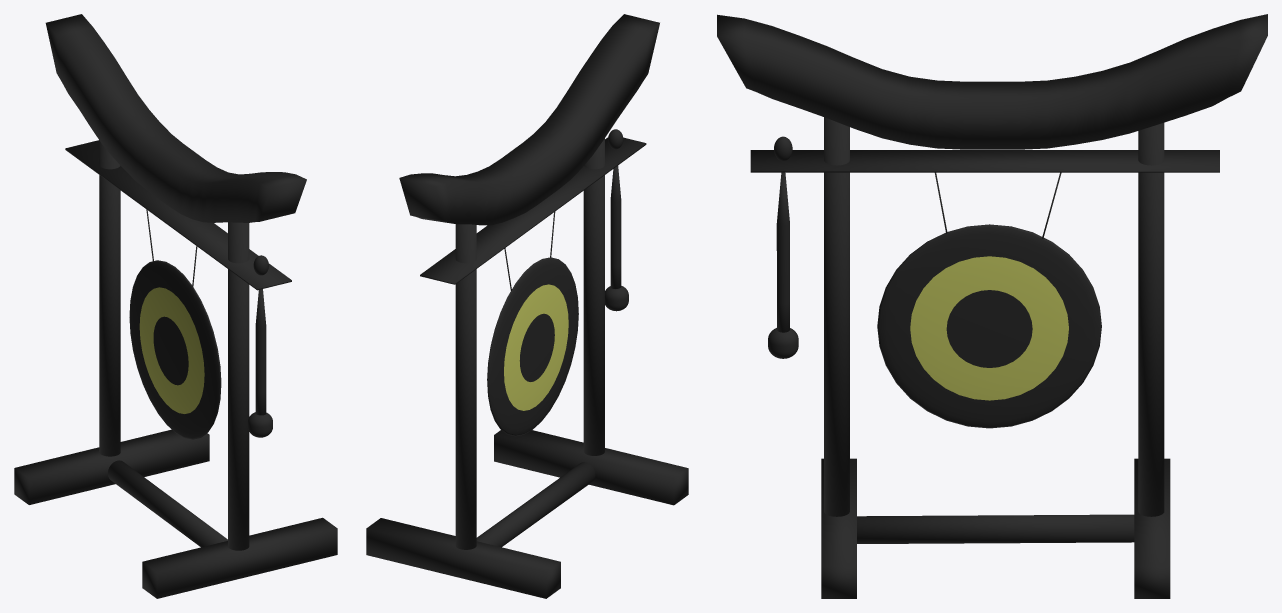
Rendered from gong.fbx.
3 renders of one model, left to right at view 1: azimuth 30°, elevation 25°; view 2: azimuth 150°, elevation 25°; view 3: azimuth 270°, elevation 25°, orthographic. The views are drawn at different scales.
Visible parts, largest first — view 1: top, gong, floor leg 2, poll 2, floor leg, poll, middle, floor leg 3, gong stick; view 2: top, gong, floor leg, floor leg 2, poll, poll 2, middle, floor leg 3, gong stick; view 3: top, gong, poll, poll 2, middle, floor leg 3, floor leg, floor leg 2, gong stick.
Part boxes in pixels (box(x1,y1,x2,y2)): top: box(45, 14, 306, 222); gong: box(129, 260, 221, 439); floor leg 2: box(142, 517, 337, 598); poll 2: box(228, 222, 249, 550); floor leg: box(14, 429, 209, 504); poll: box(99, 140, 120, 456); middle: box(65, 140, 291, 290); floor leg 3: box(108, 460, 227, 547); gong stick: box(248, 255, 272, 437); top: box(399, 14, 659, 225); gong: box(487, 257, 578, 436); floor leg: box(366, 518, 560, 598); floor leg 2: box(494, 430, 688, 505); poll: box(455, 224, 476, 549); poll 2: box(583, 138, 604, 455); middle: box(420, 137, 646, 284); floor leg 3: box(476, 462, 595, 547); gong stick: box(605, 129, 628, 311); top: box(717, 14, 1267, 149); gong: box(877, 224, 1101, 428); poll: box(1138, 123, 1164, 516); poll 2: box(824, 117, 849, 516); middle: box(750, 150, 1219, 172); floor leg 3: box(857, 514, 1134, 543); floor leg: box(1134, 458, 1170, 598); floor leg 2: box(821, 458, 856, 598); gong stick: box(768, 136, 798, 358).
Size of the model in its own units: 1.29 by 2.91 by 2.79.
